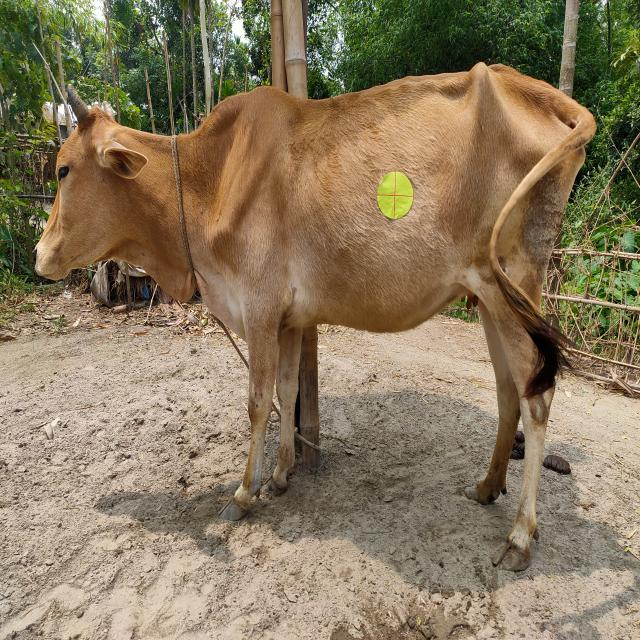badan_sapi: (224, 89, 581, 333)
sapi: (27, 54, 604, 583)
